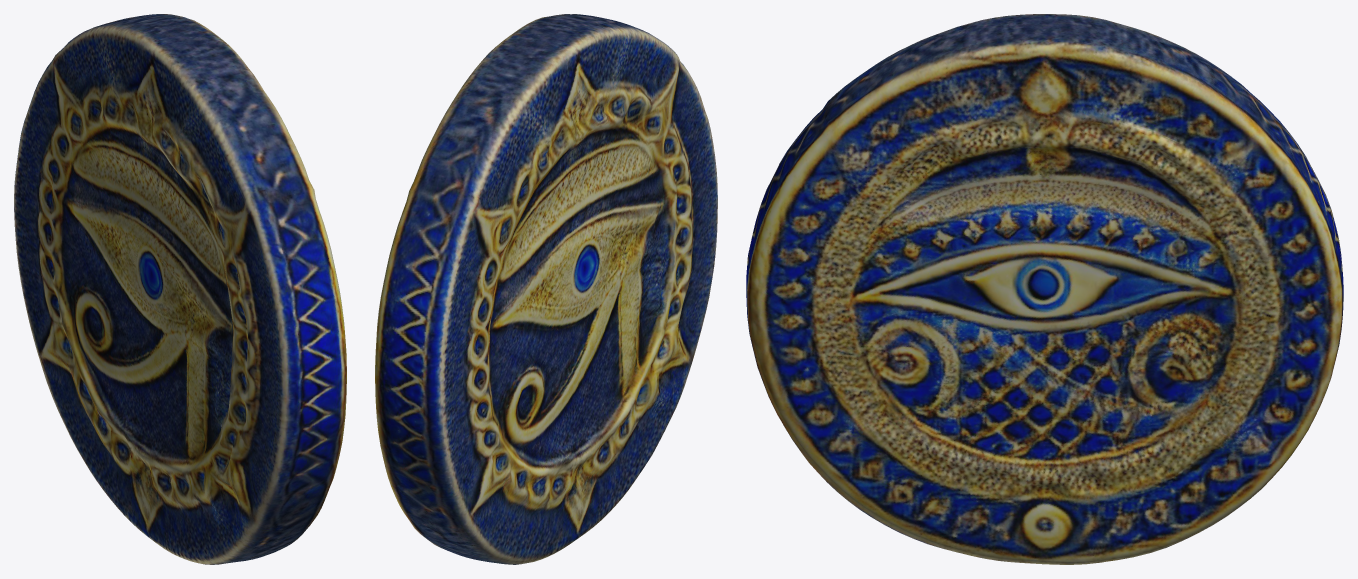
Rendered from 29c84a91a7dd_An_eye_of_Horus_med.fbx.
The picture shows the model from 3 angles, left to right: view 1: azimuth 30°, elevation 25°; view 2: azimuth 150°, elevation 25°; view 3: azimuth 270°, elevation 25°; orthographic projection. The views are drawn at different scales.
Visible parts, largest first — view 1: mesh; view 2: mesh; view 3: mesh.
Part boxes in pixels (box(x1,y1,x2,y2)): mesh: box(14, 14, 346, 564); mesh: box(375, 14, 717, 564); mesh: box(746, 14, 1343, 564).
Bounding box in the file's own units: 17.43 × 97.48 × 99.97.
